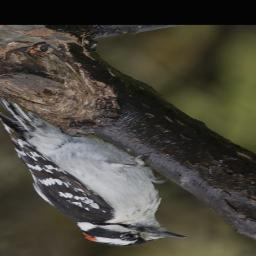Woodpecker: (0, 94, 188, 246)
